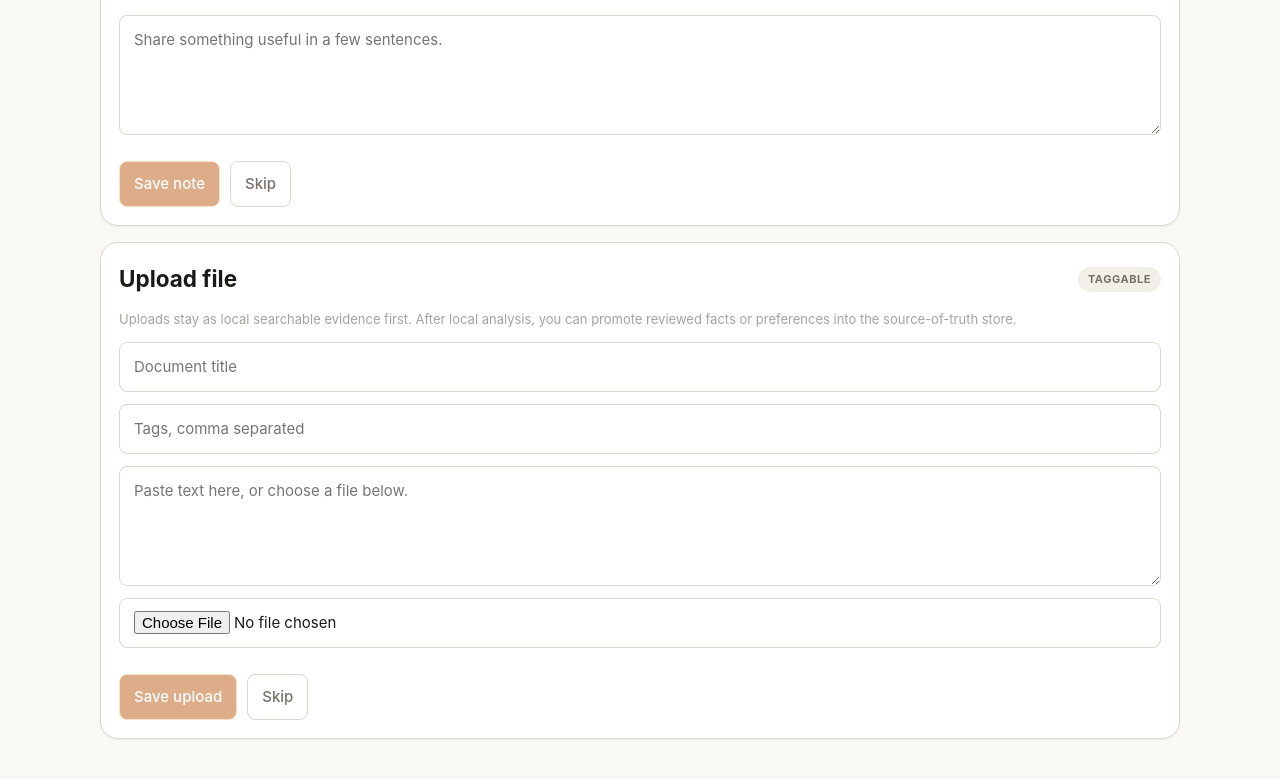
Test: TeachTab › shows fallback_analyzed warning in analysis results
(page scrolled)
Type "Notes" into the text box with placeholder "Paste text here, or choose a file below." at point(640, 526), box [119,466,1161,586]
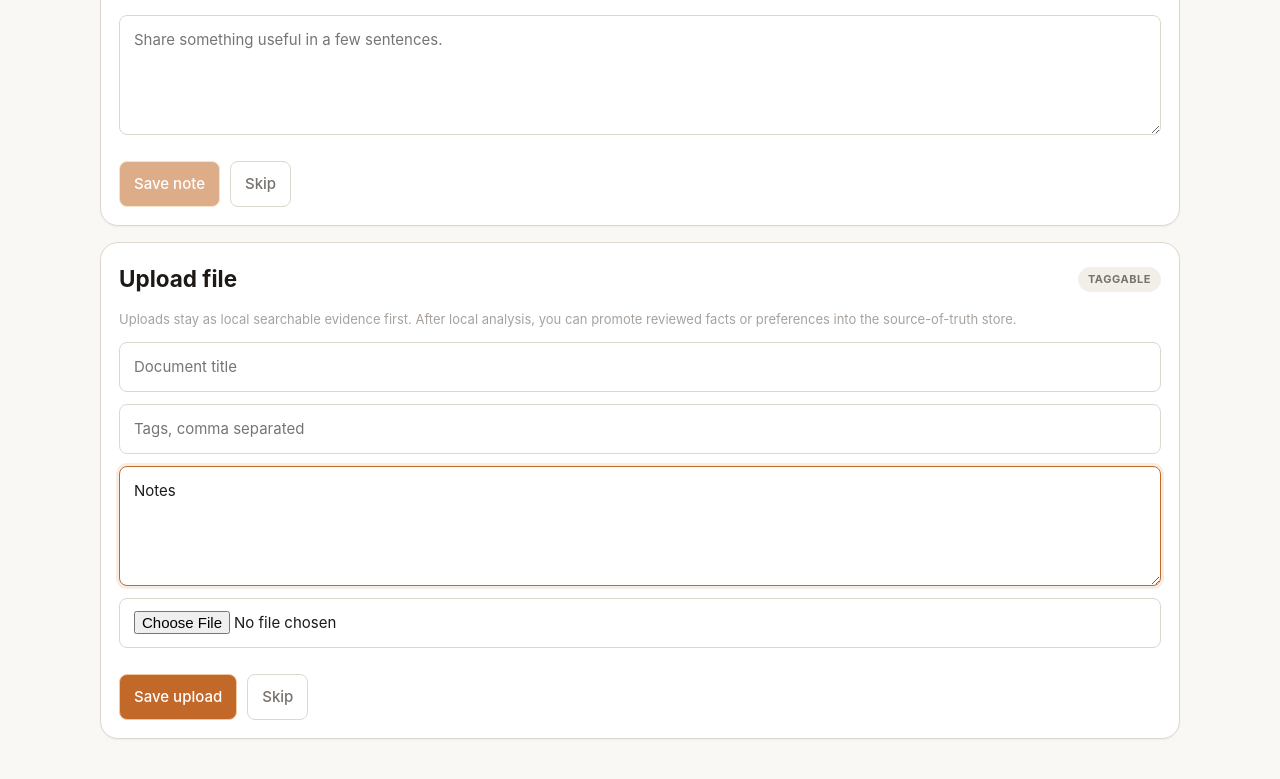
Click the button "Save upload" at point(178, 697), box [119,674,237,720]
(page scrolled)
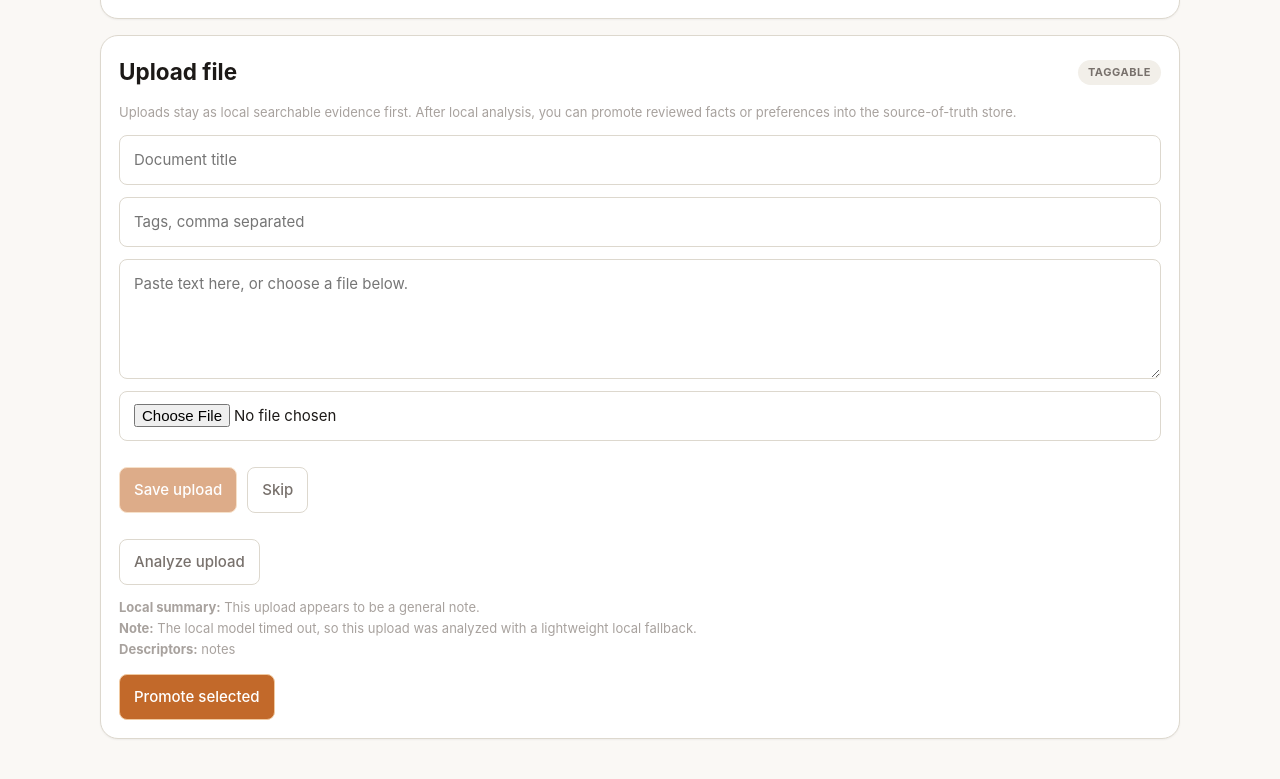
Now the text "Local summary: This upload appears to be a general note." is shown, box [119,599,480,615]
Now the text "timed out" is shown, box [157,620,697,636]
